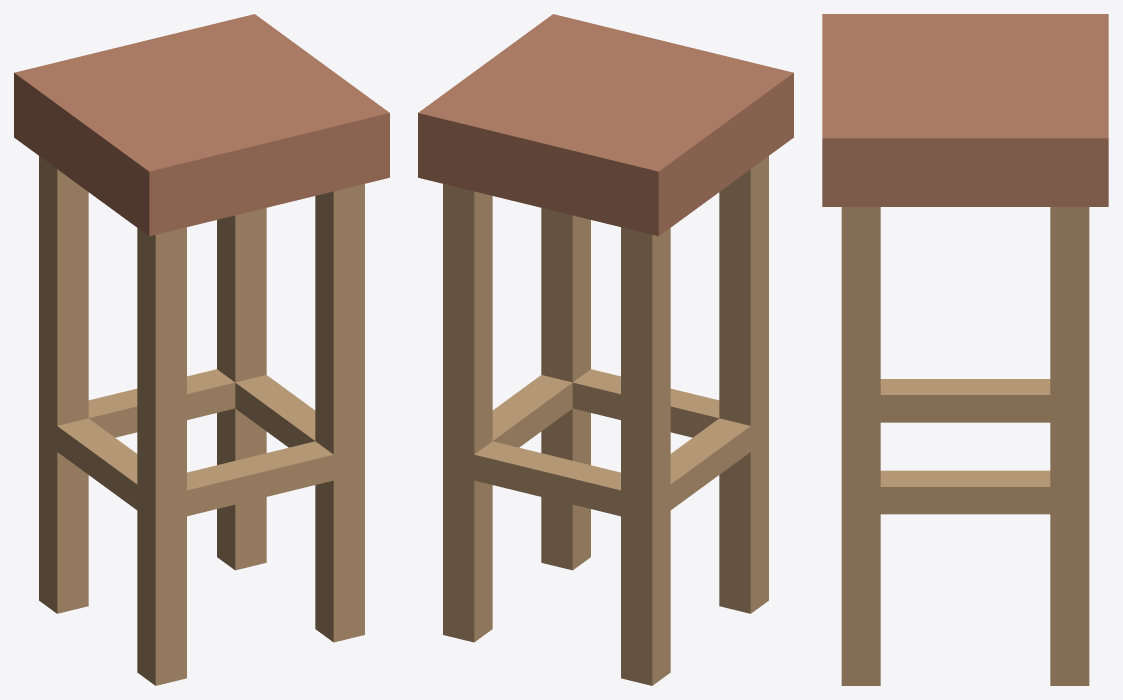
Rendered from stool-bar-square.glb.
3 views of the same model, side by side, from view 1: azimuth 30°, elevation 25°; view 2: azimuth 150°, elevation 25°; view 3: azimuth 270°, elevation 25° (orthographic). The views are drawn at different scales.
Parts seen in each view (by area): view 1: stool-bar-square; view 2: stool-bar-square; view 3: stool-bar-square.
Part boxes in pixels (x1,y1,x2,y2): stool-bar-square: (14, 14, 389, 685); stool-bar-square: (418, 14, 793, 685); stool-bar-square: (822, 14, 1108, 685).
Bounding box in the file's own units: 0.36 × 0.75 × 0.35.
